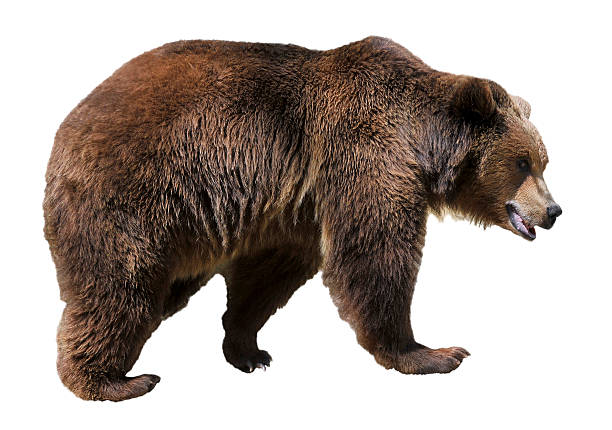bear: (459, 70, 570, 244)
